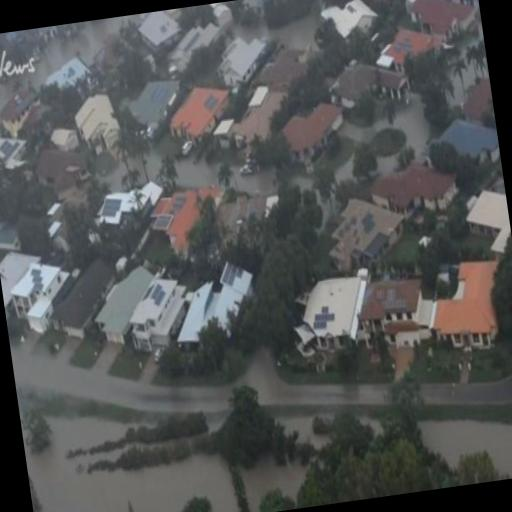flood: (24, 416, 236, 512), (0, 14, 138, 110), (340, 93, 430, 163), (422, 421, 512, 476), (241, 454, 307, 512), (243, 458, 307, 512), (276, 413, 329, 449), (269, 13, 320, 49), (176, 152, 219, 186), (177, 156, 218, 188), (236, 168, 277, 196), (99, 162, 127, 192), (232, 19, 270, 41), (336, 156, 354, 183), (378, 154, 398, 176), (148, 150, 162, 179)
house: (321, 191, 410, 271), (430, 259, 502, 353), (45, 256, 123, 342), (96, 265, 158, 357), (296, 275, 368, 353), (128, 276, 192, 360), (366, 276, 437, 348), (330, 56, 414, 116), (186, 273, 258, 343), (377, 161, 461, 219), (168, 82, 236, 148), (0, 251, 60, 322), (434, 114, 502, 172), (463, 187, 512, 249), (410, 0, 477, 45), (74, 92, 122, 154), (217, 36, 269, 88), (284, 109, 334, 163), (32, 145, 86, 194), (322, 0, 380, 40), (0, 89, 45, 134), (436, 0, 479, 12)
